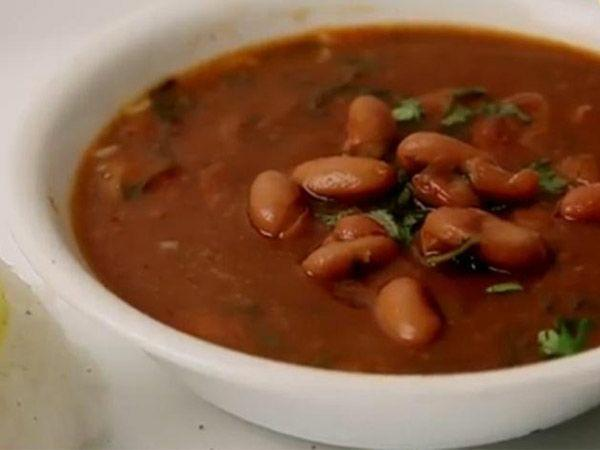RajmaCurry: (65, 17, 600, 369)
